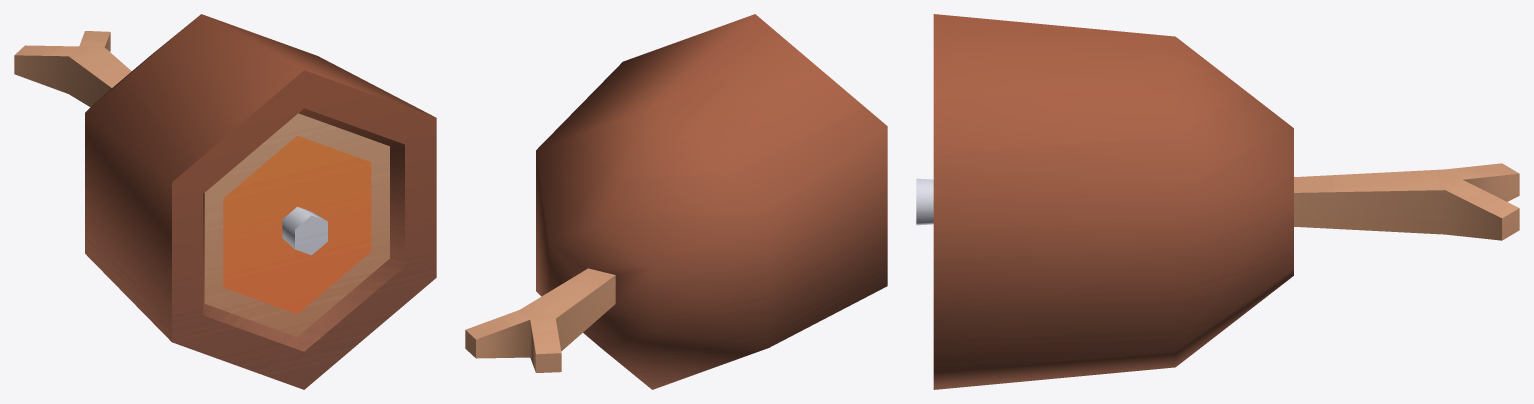
The model's file is whole-ham.glb.
3 renders of one model, left to right at view 1: azimuth 30°, elevation 25°; view 2: azimuth 150°, elevation 25°; view 3: azimuth 270°, elevation 25°, orthographic. The views are drawn at different scales.
Parts seen in each view (by area): view 1: whole-ham; view 2: whole-ham; view 3: whole-ham.
Boxes of the visible parts, x1,y1,x2,y2 form: whole-ham: (14, 14, 436, 389); whole-ham: (465, 14, 887, 389); whole-ham: (916, 14, 1519, 389).
Size of the model in its own units: 0.3809 by 0.4399 by 0.6397.
Materials: 1 (1 with a texture image).
